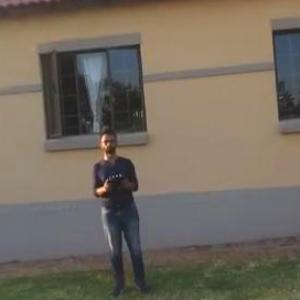follow: (90, 122, 154, 299)
